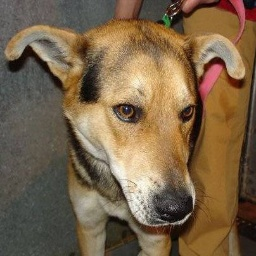dog: (4, 14, 245, 256)
